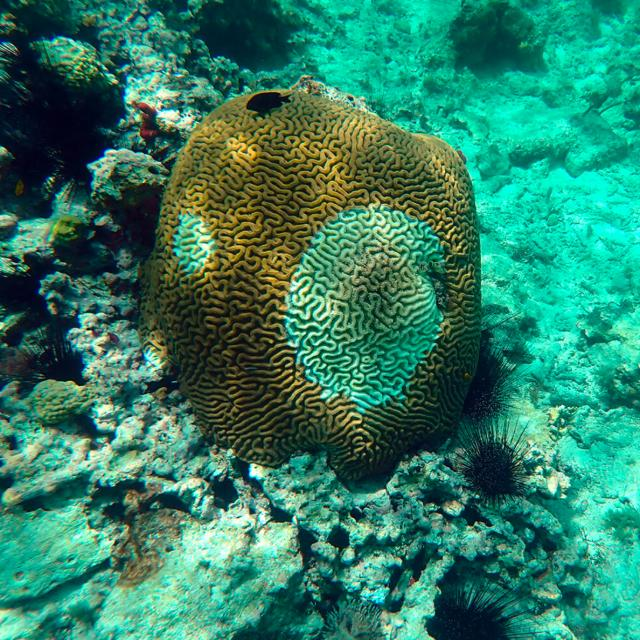Coral: (137, 88, 482, 481)
